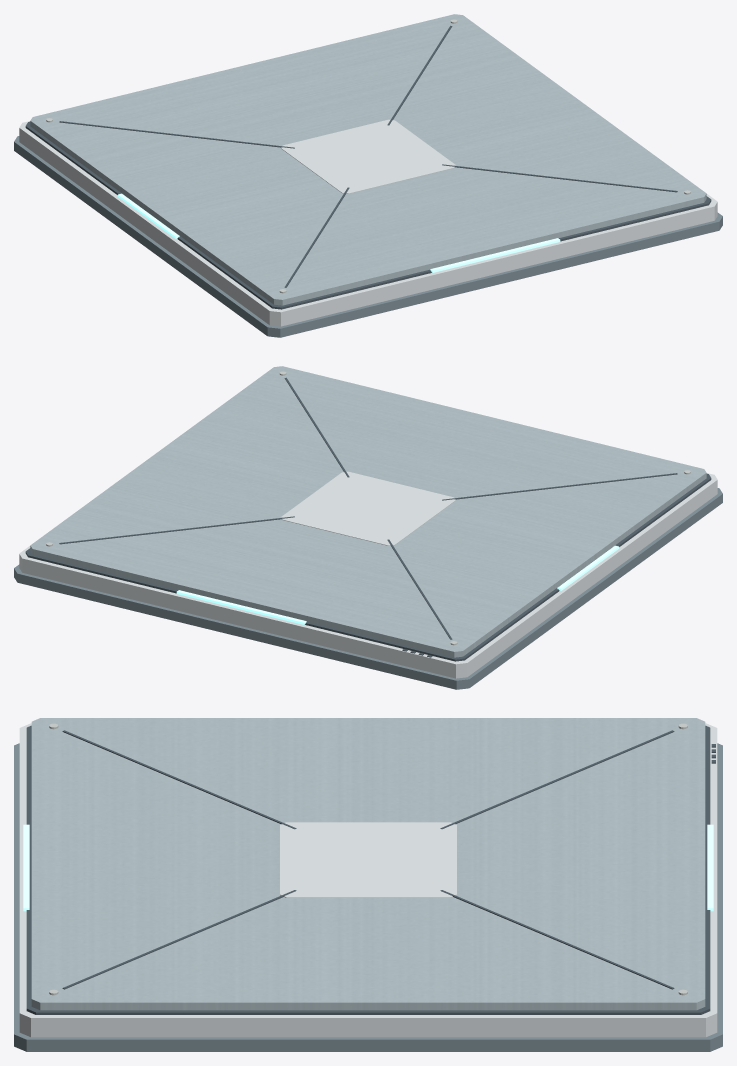
Rendered from m02-metal-full.glb.
3 views of the same model, one above another, from view 1: azimuth 30°, elevation 25°; view 2: azimuth 150°, elevation 25°; view 3: azimuth 270°, elevation 25° (orthographic). The views are drawn at different scales.
Visible parts, largest first — view 1: full/003, full/001, full/000, full/004, full/002, full/014; view 2: full/003, full/001, full/000, full/004, full/002, full/013; view 3: full/003, full/001, full/000, full/004, full/002, full/007, full/008, full/005, full/006, full/013, full/014.
Part boxes in pixels (x1,y1,x2,y2): full/003: (30,14,706,305); full/001: (19,121,717,326); full/000: (14,136,722,337); full/004: (281,119,455,193); full/002: (25,121,711,309); full/014: (430,238,560,272); full/003: (30,366,706,657); full/001: (19,473,717,678); full/000: (14,488,722,689); full/004: (281,471,455,545); full/002: (25,473,711,661); full/013: (176,590,306,624); full/003: (31,718,705,1010); full/001: (19,723,717,1037); full/000: (14,743,722,1051); full/004: (280,822,456,897); full/002: (26,725,710,1014); full/007: (440,890,674,989); full/008: (62,890,296,989); full/005: (440,730,674,829); full/006: (62,730,296,829); full/013: (707,824,713,911); full/014: (23,824,29,911).
Size of the model in its own units: 1 by 0.0678 by 1.
6 materials, 1 textured.
